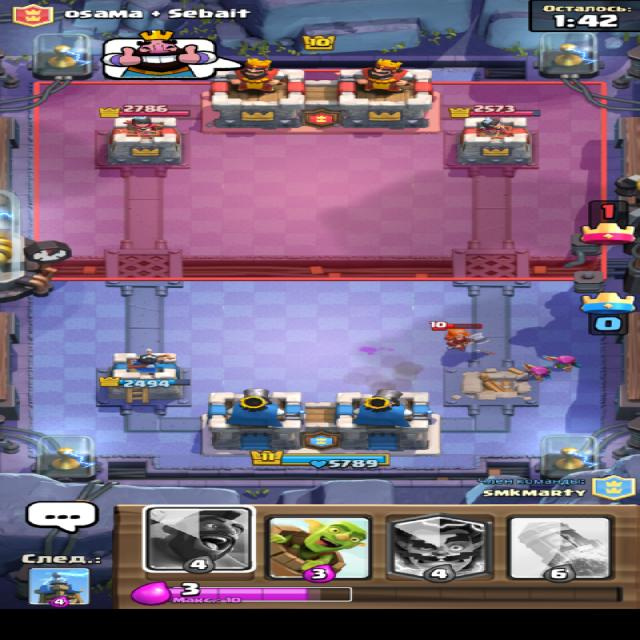Enemy-Valkyrie: (426, 320, 491, 352)
Player-Archer: (540, 352, 584, 372), (519, 359, 552, 382)
